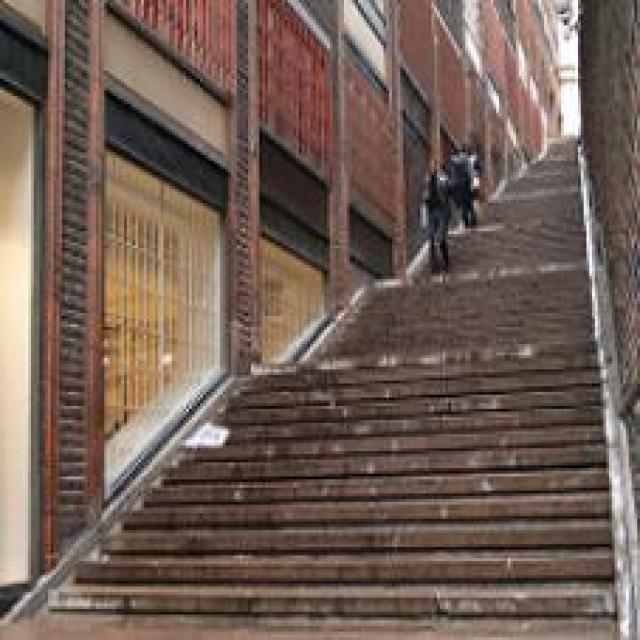upstair: (111, 413, 616, 638)
